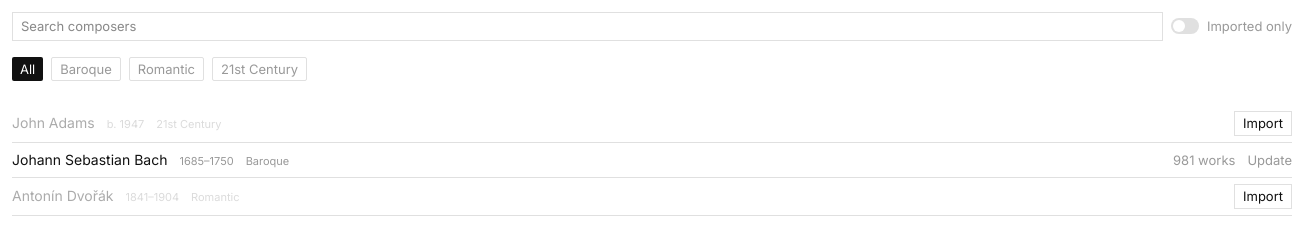
Test: LibraryBrowser › shows why an import failed
The image size is (1304, 251).
Click the button with aria-label "Import John Adams". click: [1263, 123]
box: [1234,111,1292,136]
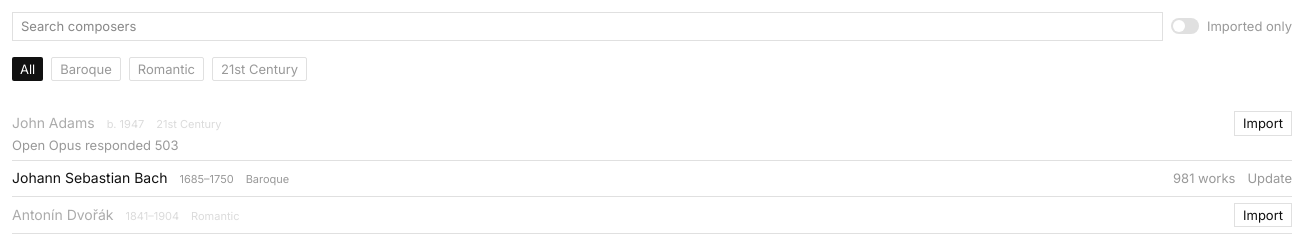
Check: the text "Open Opus responded 503" is shown, box [12,137,179,153]
